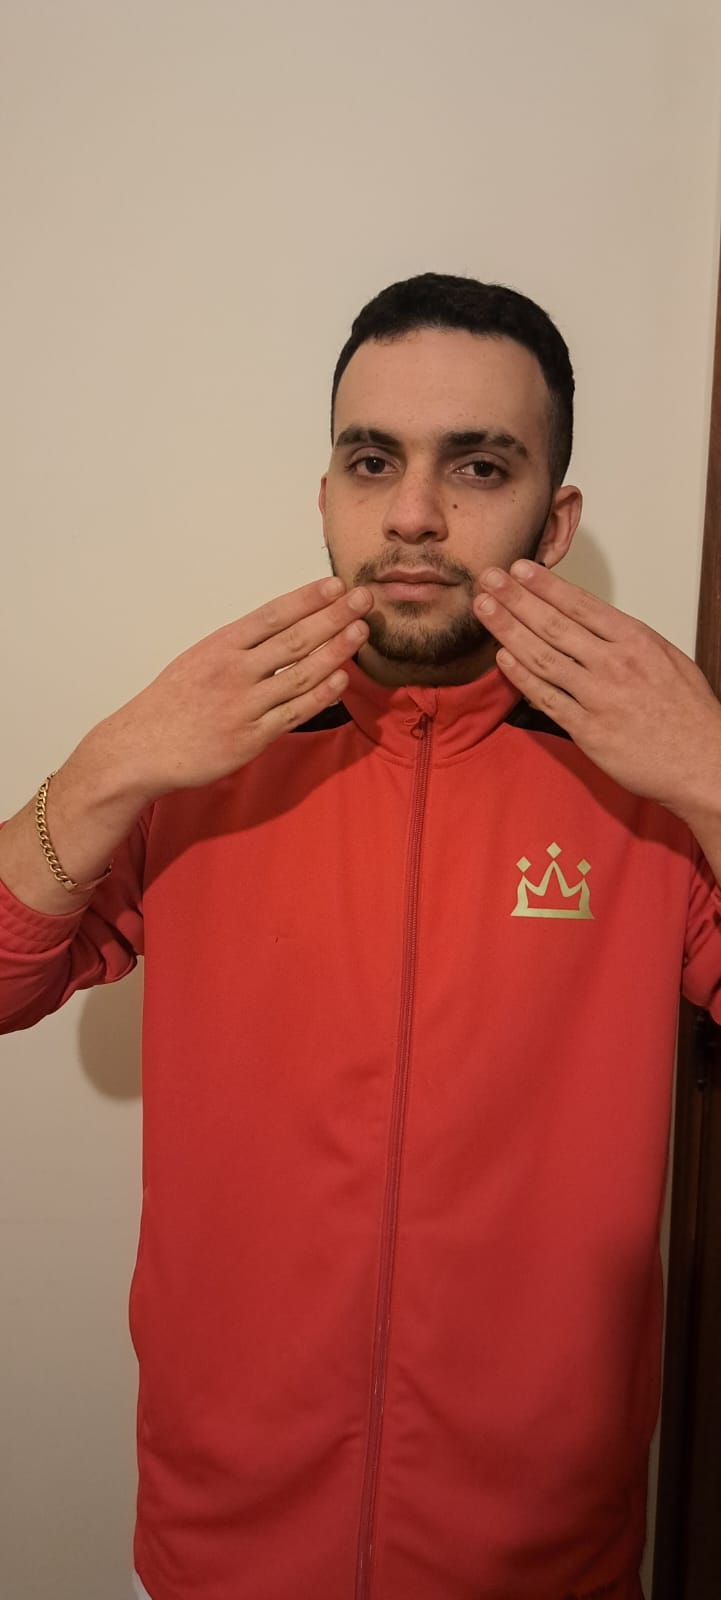grazie: (147, 551, 681, 810)
